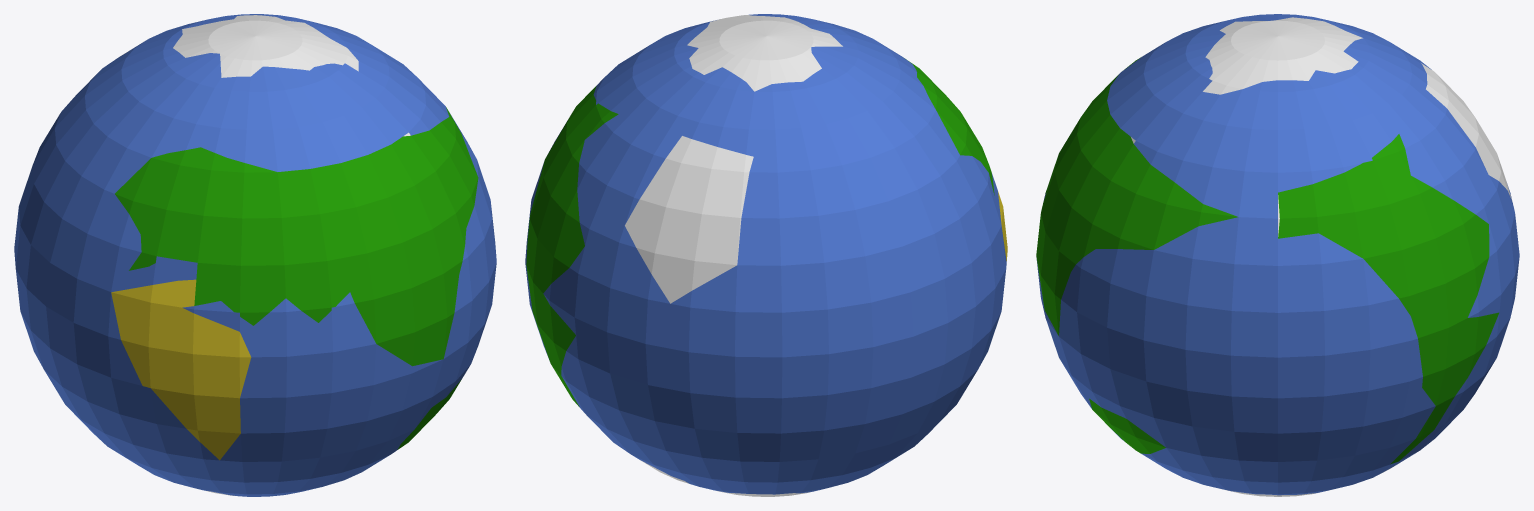
File: Terre.fbx
3 views of the same model, side by side, from view 1: azimuth 30°, elevation 25°; view 2: azimuth 150°, elevation 25°; view 3: azimuth 270°, elevation 25° (orthographic).
Parts seen in each view (by area): view 1: Sphere; view 2: Sphere; view 3: Sphere.
Boxes of the visible parts, left/top/right/bottom form: Sphere: left=14, top=14, right=496, bottom=496; Sphere: left=525, top=14, right=1007, bottom=496; Sphere: left=1036, top=14, right=1519, bottom=496.
Bounding box in the file's own units: 2 × 2 × 2.
